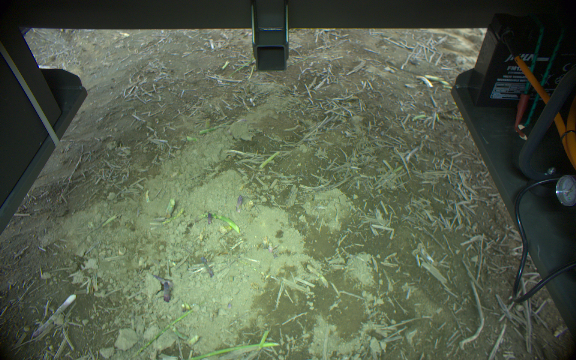aspa: (128, 305, 193, 360), (186, 338, 283, 360), (194, 211, 244, 234), (257, 329, 271, 360)
